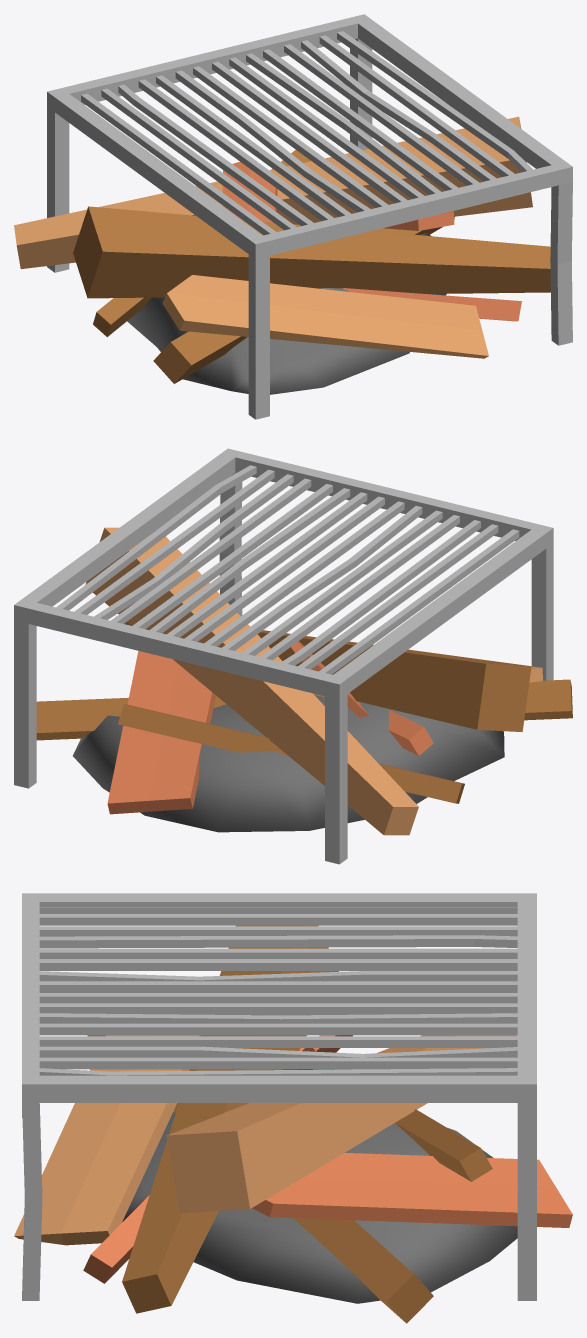
Rendered from bonfire1.2.fbx.
3 views of the same model, one above another, from view 1: azimuth 30°, elevation 25°; view 2: azimuth 150°, elevation 25°; view 3: azimuth 270°, elevation 25° (orthographic). The views are drawn at different scales.
Visible parts, largest first — view 1: Bongfire1.2; view 2: Bongfire1.2; view 3: Bongfire1.2.
Part boxes in pixels (box(x1,y1,x2,y2)): Bongfire1.2: box(14, 14, 572, 419); Bongfire1.2: box(14, 448, 572, 864); Bongfire1.2: box(14, 893, 572, 1323).
Bounding box in the file's own units: 118 × 46.24 × 106.
